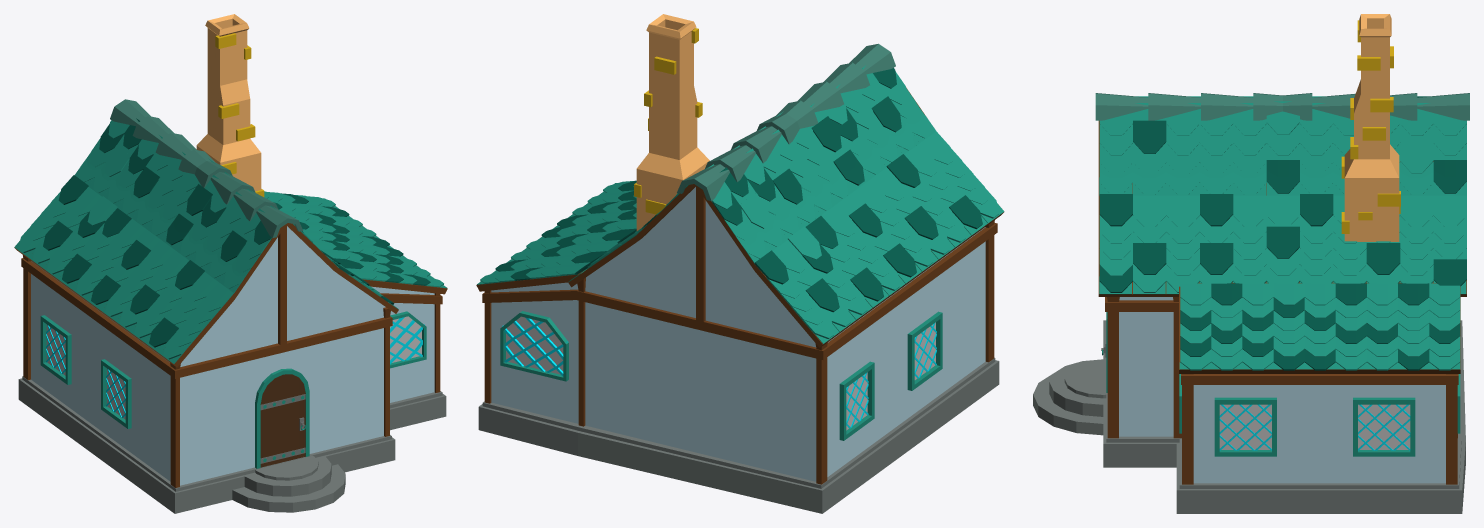
The model's file is SM_hous_04_A.gltf.
3 views of the same model, side by side, from view 1: azimuth 30°, elevation 25°; view 2: azimuth 150°, elevation 25°; view 3: azimuth 270°, elevation 25° (orthographic). The views are drawn at different scales.
Visible parts, largest first — view 1: SM_hous_04_A; view 2: SM_hous_04_A; view 3: SM_hous_04_A.
Part boxes in pixels (left/top/right/bottom): SM_hous_04_A: left=14, top=14, right=447, bottom=513; SM_hous_04_A: left=476, top=14, right=1004, bottom=513; SM_hous_04_A: left=1033, top=14, right=1469, bottom=513.
Size of the model in its own units: 7.51 by 8.41 by 7.96.
